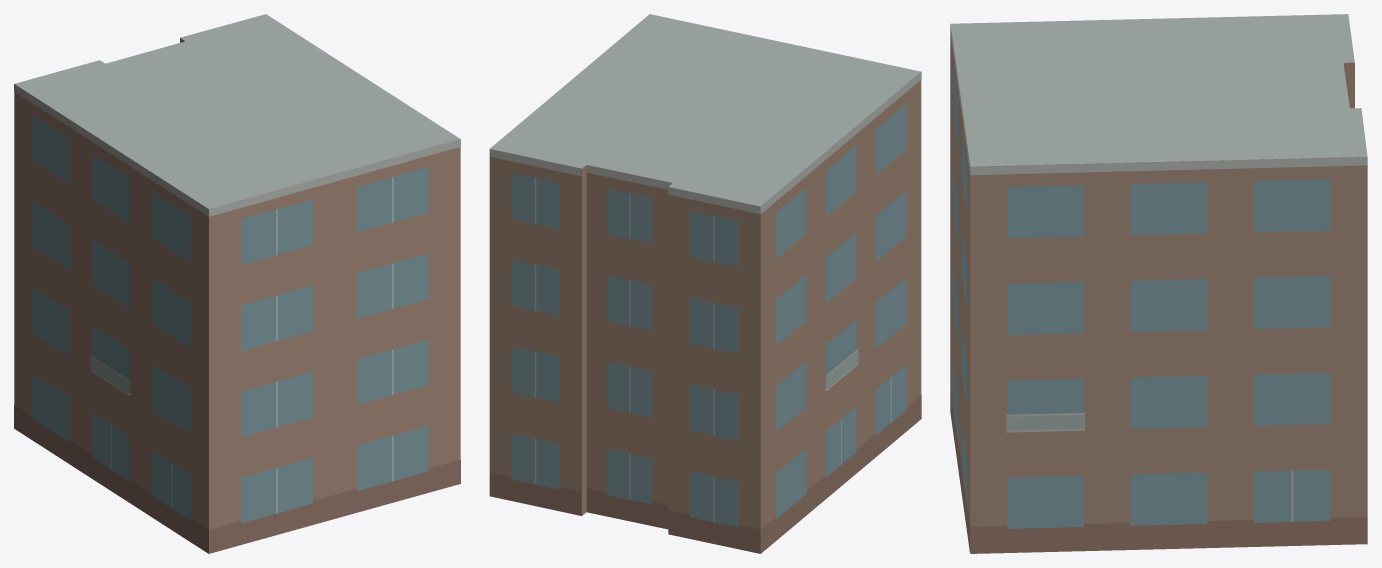
The model's file is survey-upis-32698586.glb.
The picture shows the model from 3 angles, left to right: view 1: azimuth 30°, elevation 25°; view 2: azimuth 150°, elevation 25°; view 3: azimuth 270°, elevation 25°; orthographic projection. The views are drawn at different scales.
Visible parts, largest first — view 1: survey-upis-32698586.tmp; view 2: survey-upis-32698586.tmp; view 3: survey-upis-32698586.tmp.
Part boxes in pixels (bbox=[...]): survey-upis-32698586.tmp: bbox=[14, 14, 460, 553]; survey-upis-32698586.tmp: bbox=[489, 14, 921, 553]; survey-upis-32698586.tmp: bbox=[950, 14, 1367, 553].
Bounding box in the file's own units: 9.22 × 10.9 × 10.65.
